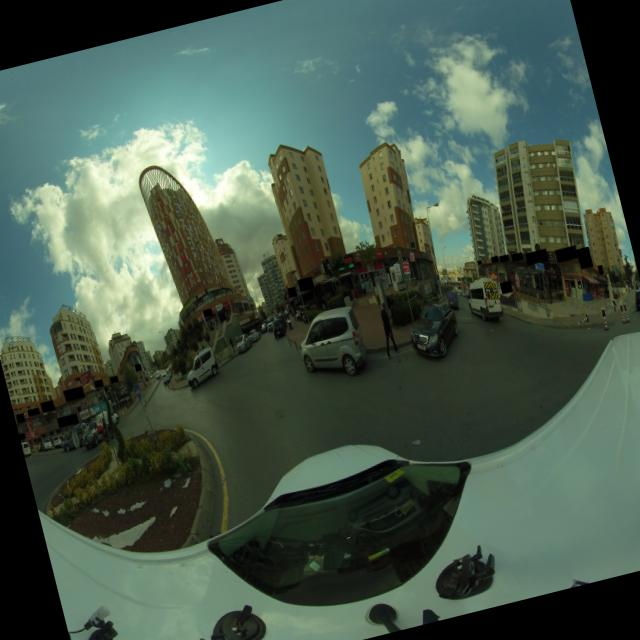SignStore: (64, 386, 84, 401), (57, 413, 78, 427), (576, 249, 593, 266), (298, 276, 314, 292), (555, 249, 578, 260), (40, 399, 55, 413), (525, 251, 548, 260), (28, 407, 40, 416), (511, 253, 524, 261), (500, 283, 513, 291), (94, 379, 104, 388), (16, 413, 25, 423), (288, 286, 296, 297), (203, 308, 212, 317), (499, 254, 509, 262), (109, 375, 118, 383), (134, 363, 141, 371), (19, 432, 26, 439), (491, 255, 498, 262), (215, 303, 222, 310), (598, 265, 603, 273), (477, 260, 482, 264)
